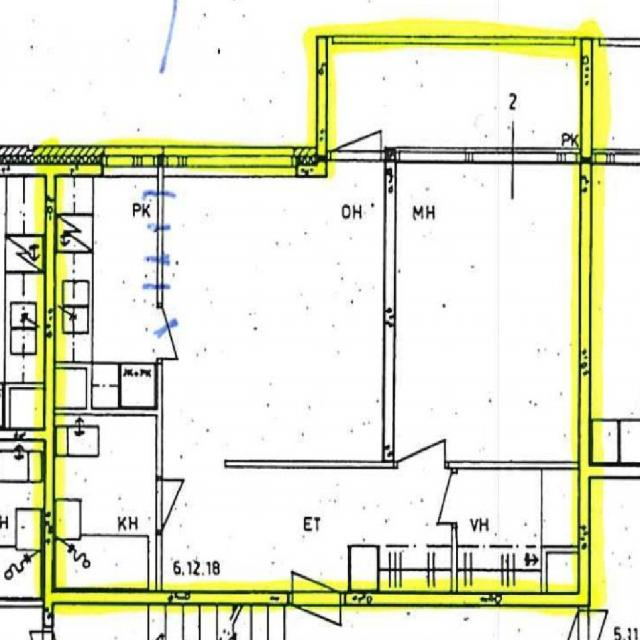door: (331, 91, 380, 161), (293, 534, 340, 606), (398, 404, 445, 468), (156, 478, 205, 530), (409, 472, 457, 524)
